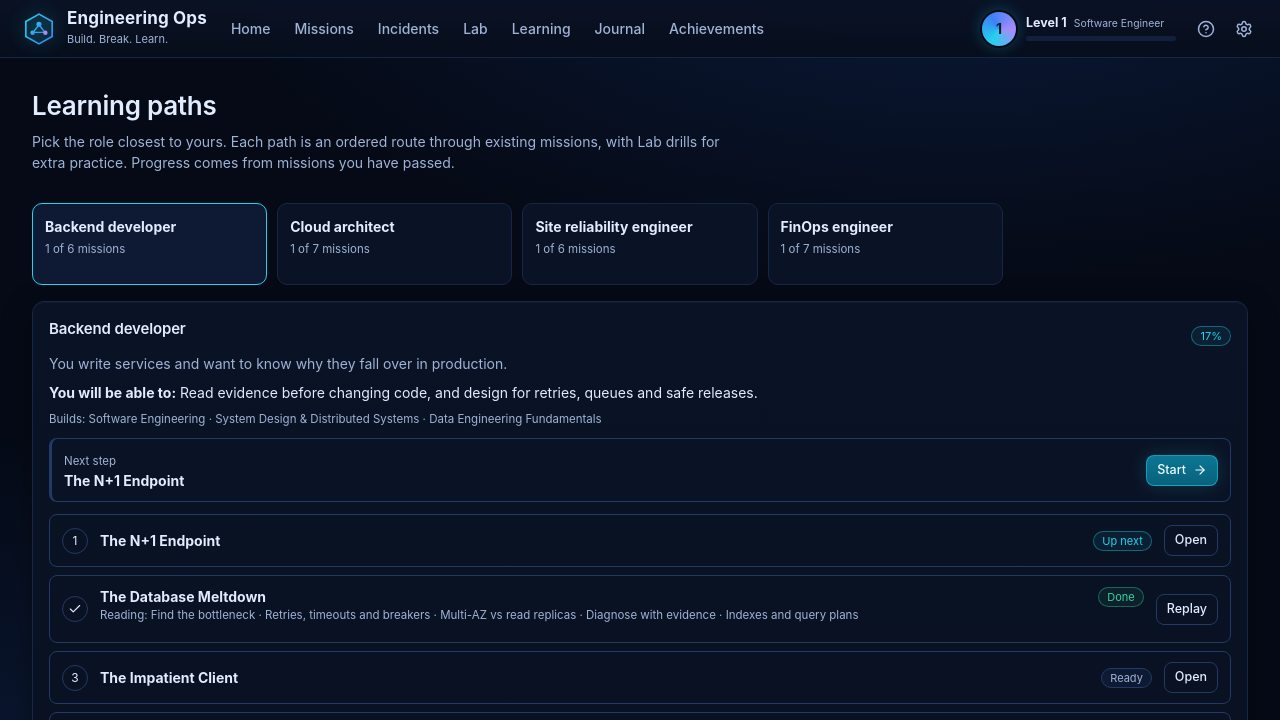
Test: Learning paths page › switches path and reflects passed missions and blocked steps
The image size is (1280, 720).
Step 1. Click the tab "Site reliability engineer 1 of 6 missions" → (640, 244), box [522,203,758,285]
(page scrolled)
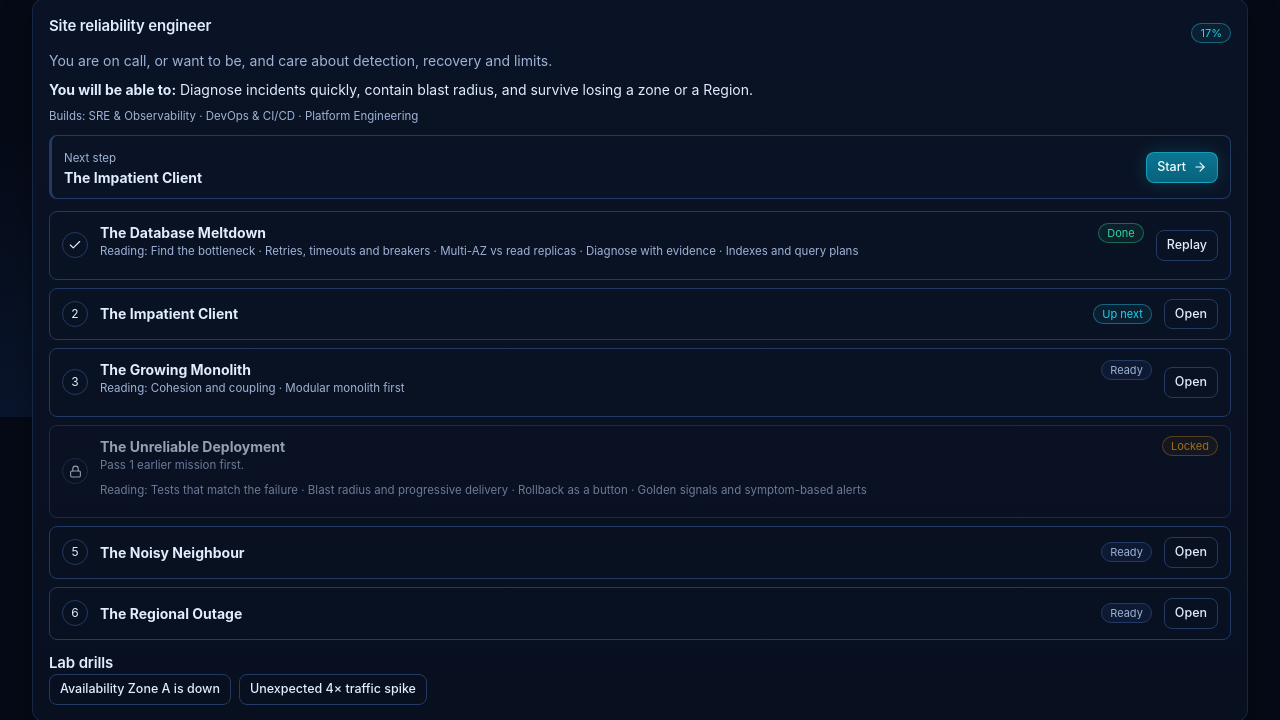
Result: the element with test id "path-next" shows "The Impatient Client" at [64,169,202,186]
